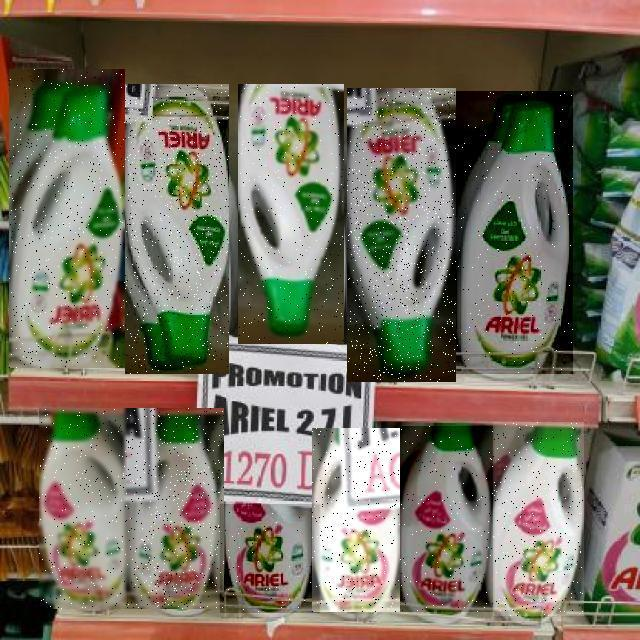Detergent: (9, 69, 125, 368), (456, 91, 573, 374), (347, 89, 456, 383), (125, 84, 229, 374), (238, 85, 344, 345), (40, 408, 136, 609), (128, 408, 224, 609), (493, 422, 584, 616), (401, 426, 495, 612), (312, 428, 400, 612), (220, 504, 320, 613)
